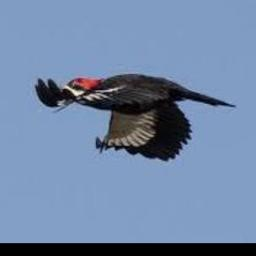Woodpecker: (36, 73, 238, 162)
